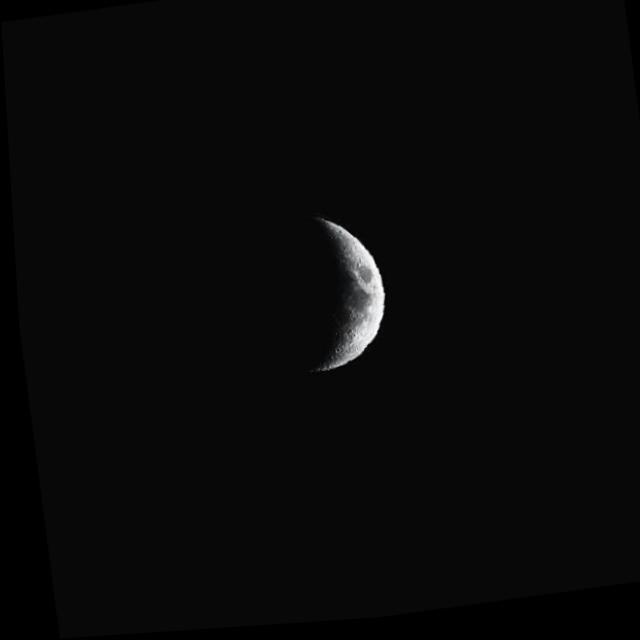moon: (217, 202, 411, 388)
